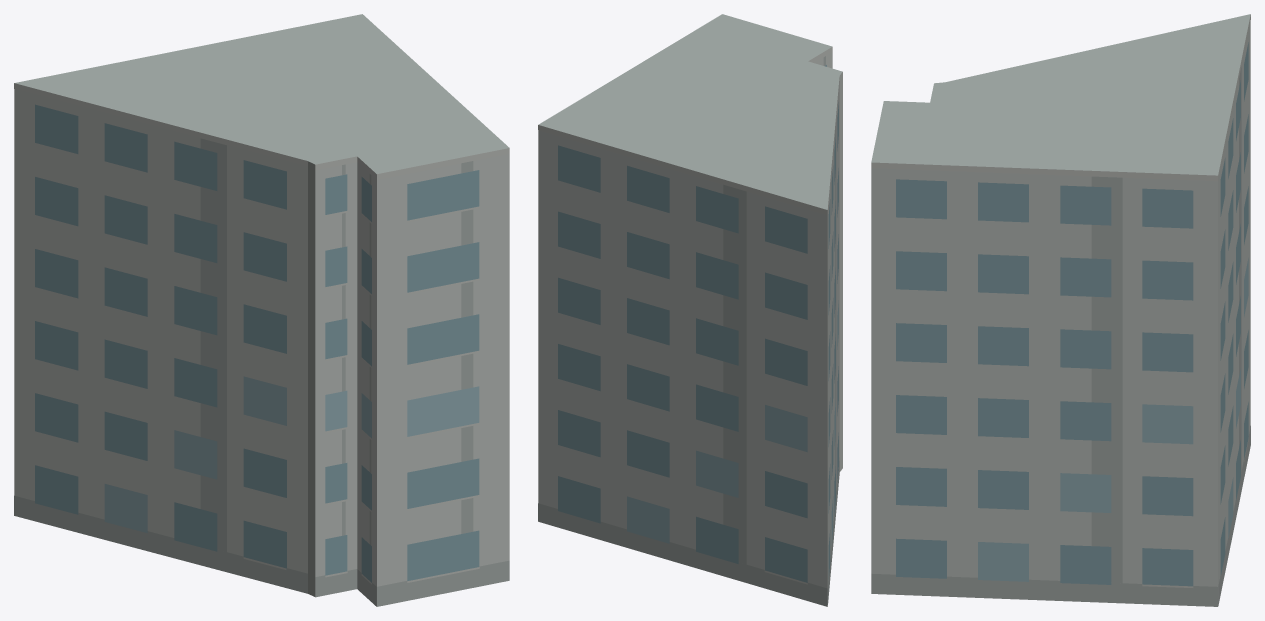
Rendered from survey-upis-32821860.glb.
The picture shows the model from 3 angles, left to right: view 1: azimuth 30°, elevation 25°; view 2: azimuth 150°, elevation 25°; view 3: azimuth 270°, elevation 25°; orthographic projection. The views are drawn at different scales.
Parts seen in each view (by area): view 1: survey-upis-32821860.tmp; view 2: survey-upis-32821860.tmp; view 3: survey-upis-32821860.tmp.
Boxes of the visible parts, x1,y1,x2,y2 form: survey-upis-32821860.tmp: [14, 14, 509, 606]; survey-upis-32821860.tmp: [538, 14, 842, 606]; survey-upis-32821860.tmp: [871, 14, 1250, 606].
Bounding box in the file's own units: 14.71 × 18.3 × 14.6.
